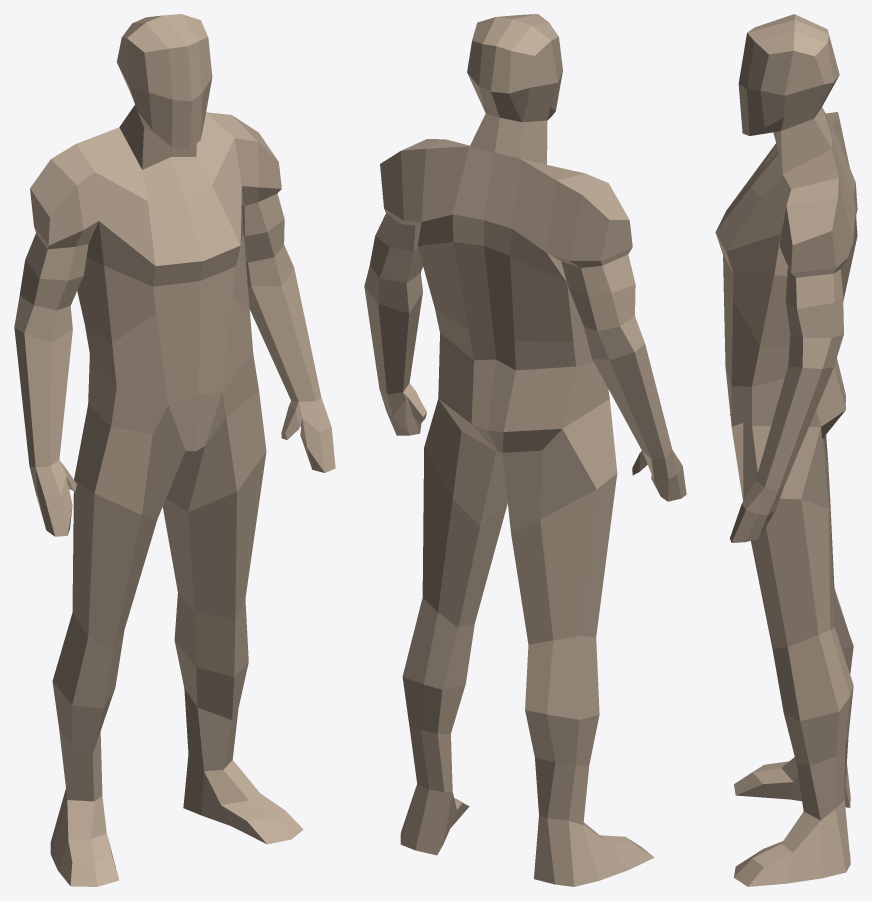
Rendered from shadow person.fbx.
3 views of the same model, side by side, from view 1: azimuth 30°, elevation 25°; view 2: azimuth 150°, elevation 25°; view 3: azimuth 270°, elevation 25° (orthographic). The views are drawn at different scales.
Parts seen in each view (by area): view 1: Cube; view 2: Cube; view 3: Cube.
Boxes of the visible parts, bbox=[...] form: Cube: bbox=[14, 14, 335, 886]; Cube: bbox=[364, 14, 686, 886]; Cube: bbox=[715, 14, 857, 886].
Size of the model in its own units: 64.79 by 178 by 28.21.
